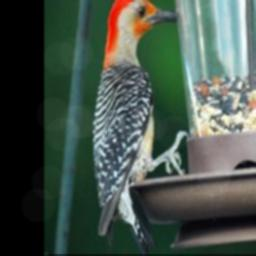Woodpecker: (89, 0, 188, 251)
